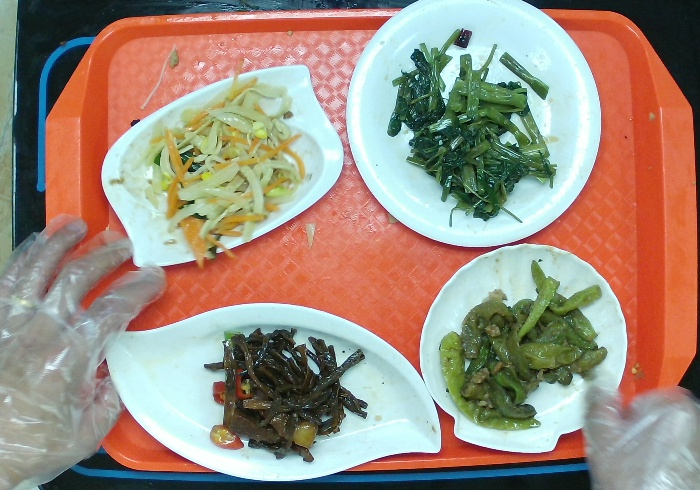RJxy-Bei_Ke_Wan: (414, 240, 631, 459)
RJxy-Jian_Jiao_Fang_Die: (97, 60, 346, 273)
RJxy-Jian_Jiao_Pan: (99, 298, 446, 484)
RJxy-Yuan_Pan: (342, 1, 603, 249)
